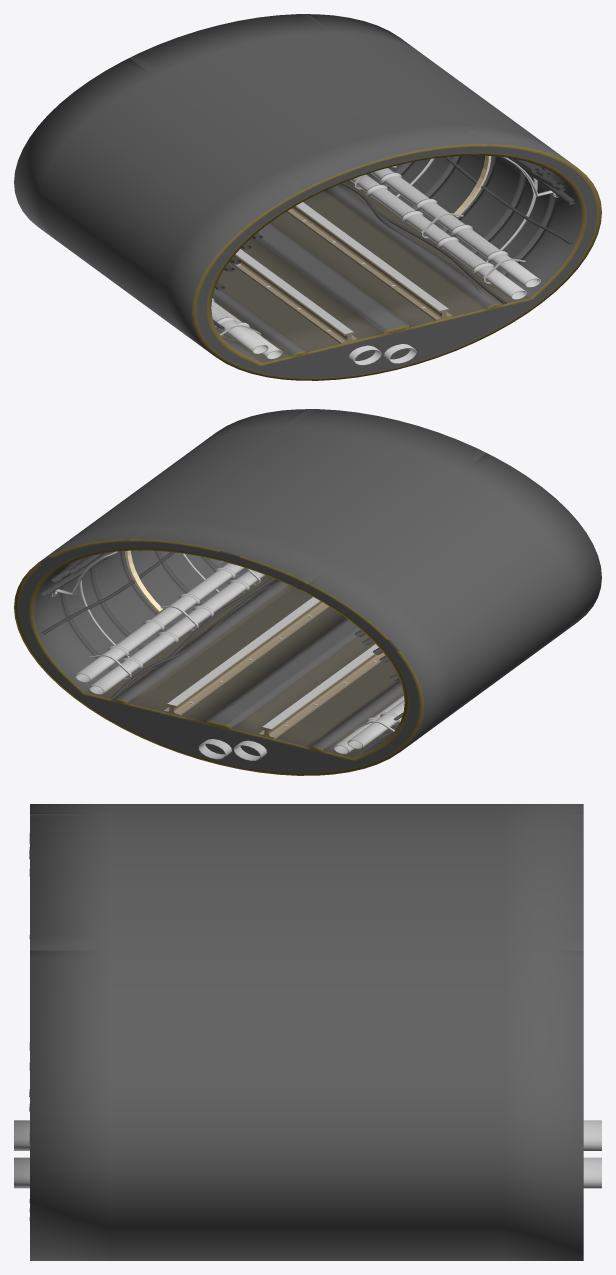
The model's file is TrainTunnelSection.fbx.
The picture shows the model from 3 angles, top to bottom: view 1: azimuth 30°, elevation 25°; view 2: azimuth 150°, elevation 25°; view 3: azimuth 270°, elevation 25°; orthographic projection. The views are drawn at different scales.
Visible parts, largest first — view 1: TrainTunnelSection; view 2: TrainTunnelSection; view 3: TrainTunnelSection.
Boxes of the visible parts, x1=… form: TrainTunnelSection: x1=14, y1=14, x2=601, y2=380; TrainTunnelSection: x1=14, y1=409, x2=601, y2=775; TrainTunnelSection: x1=14, y1=804, x2=601, y2=1260.
Bounding box in the file's own units: 44 × 22 × 35.06.
